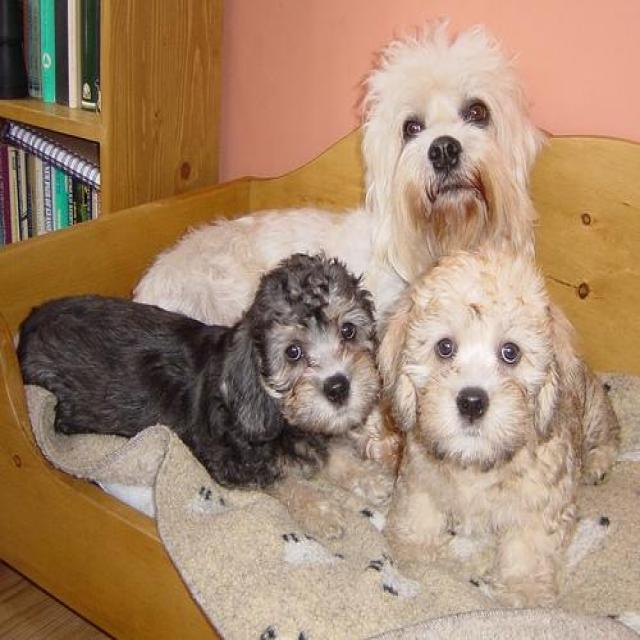dandie_dinmont: (127, 20, 542, 332), (9, 240, 384, 496), (378, 244, 618, 605)
